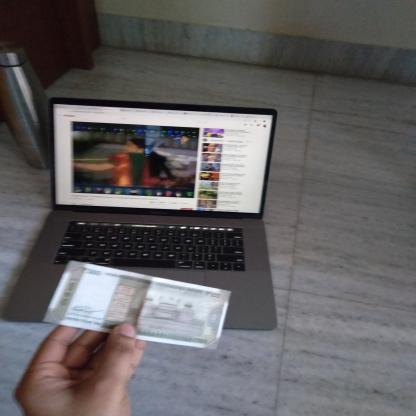New500Back: (41, 264, 233, 348)
